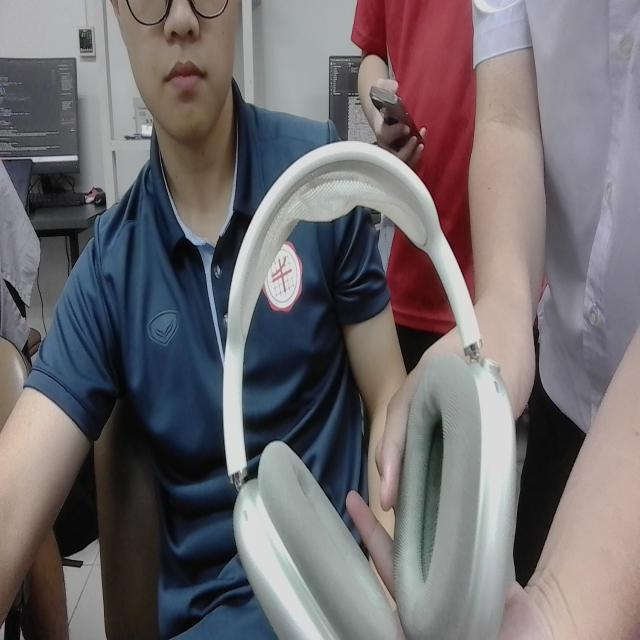airpods max: (211, 119, 528, 640)
